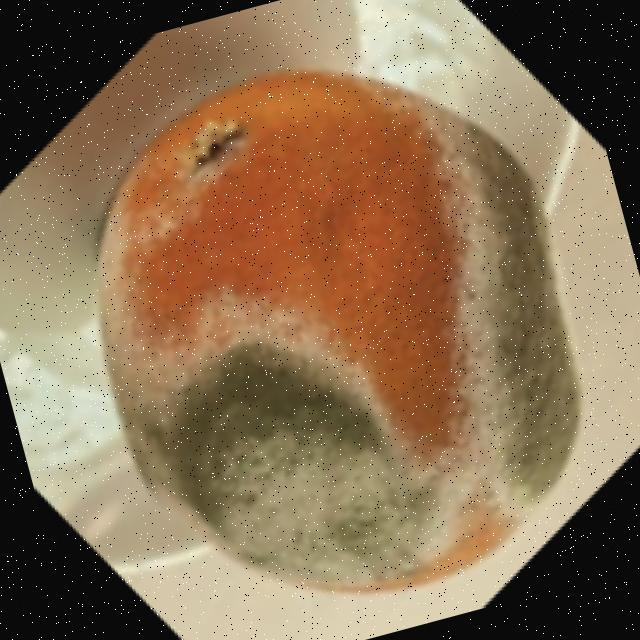Rotten: (45, 21, 628, 640)
